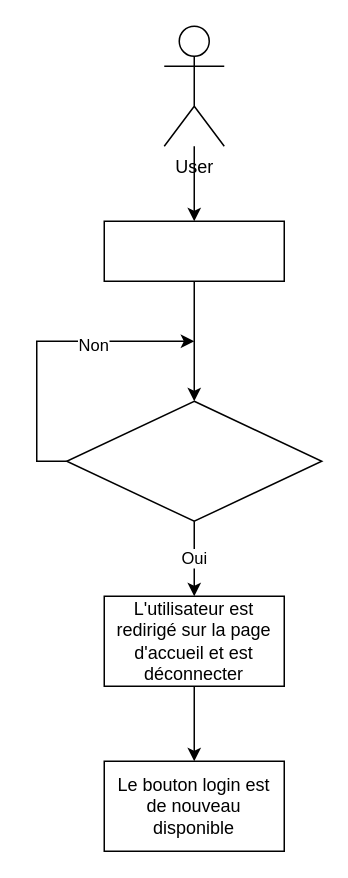
Image size: 348x878. Some labels were removed from this diagram. The centre of each missing label's shape, as x and y in pixels:
"L'utilisateur appuie sur le bouton logout ?" goes at point 193,460.
"L'utilisateur est connecté" goes at point 193,250.
